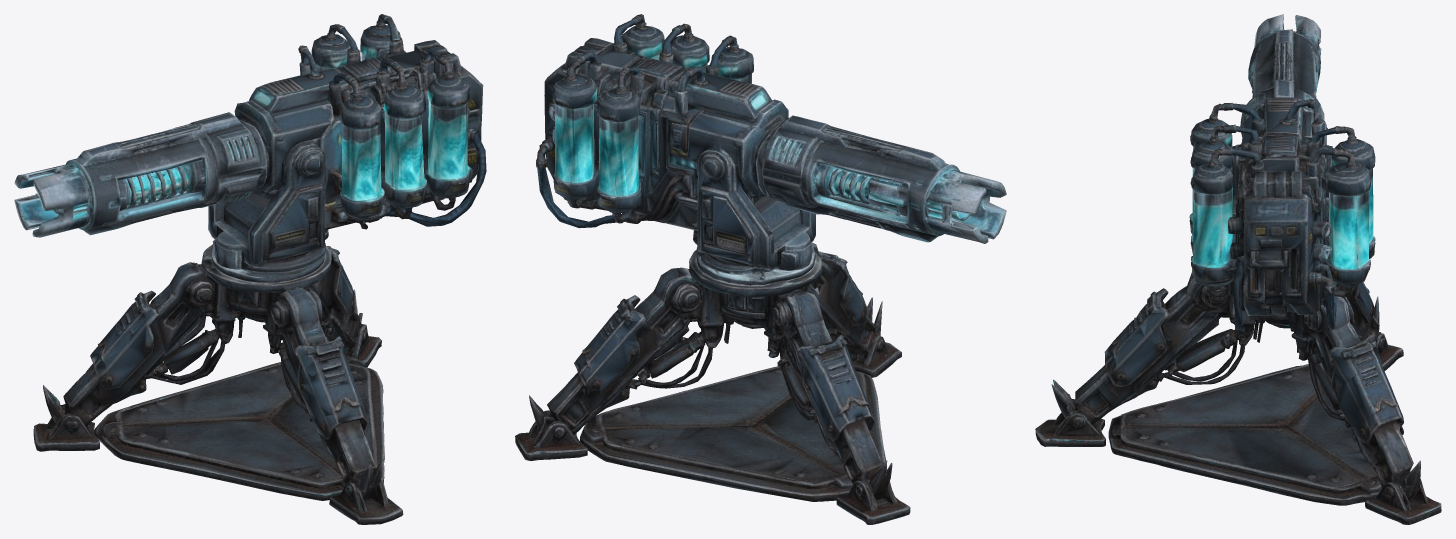
The model's file is turret_cryo_beam.glb.
The picture shows the model from 3 angles, left to right: view 1: azimuth 30°, elevation 25°; view 2: azimuth 150°, elevation 25°; view 3: azimuth 270°, elevation 25°; orthographic projection.
Size of the model in its own units: 1.9 by 1.52 by 1.53.
Materials: 1 (1 with a texture image).
